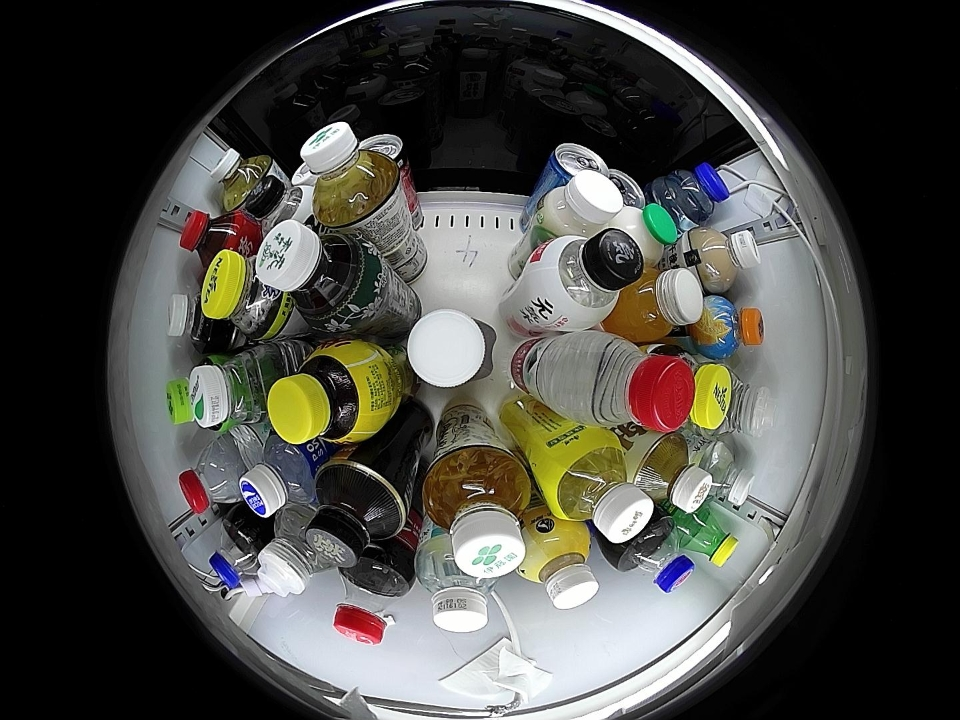asamu: (518, 525, 599, 610)
baicha: (421, 447, 532, 579), (300, 121, 402, 226), (209, 149, 270, 210)
baishikele-2: (615, 518, 694, 594), (209, 516, 267, 588)
baokuangli: (239, 438, 320, 518)
binghongcha: (179, 209, 250, 269)
bingtangxueli: (542, 434, 654, 544)
chacui: (202, 250, 289, 340), (665, 351, 735, 432)
guolicheng: (695, 296, 765, 359)
jianjiao: (257, 511, 331, 599), (709, 362, 776, 438)
kele-b: (332, 555, 412, 647)
liziyuan: (611, 203, 681, 269)
maidong: (660, 161, 731, 226)
moliqingcha: (256, 220, 380, 331)
nongfushanquan: (574, 337, 694, 432), (179, 438, 247, 513)
qingdaowangzi-2: (545, 143, 612, 186)
qinningshui: (417, 540, 496, 633), (696, 439, 756, 508)
rancha-1: (303, 458, 408, 568)
rancha-2: (630, 433, 713, 514)
weic: (612, 268, 705, 342)
weitaningmeng-bottle: (267, 339, 387, 447)
wuhounaicha: (692, 227, 761, 292)
wulongcha: (167, 287, 224, 351)
xuebi-b: (678, 507, 739, 569)
yezhi: (609, 171, 645, 212)
yibao: (191, 346, 281, 428)
yitengyuan: (166, 358, 209, 429)
yousuanru: (542, 169, 622, 238)
youyanggudong: (404, 307, 495, 389)
yuanqishui: (532, 229, 644, 329), (243, 173, 314, 232)
